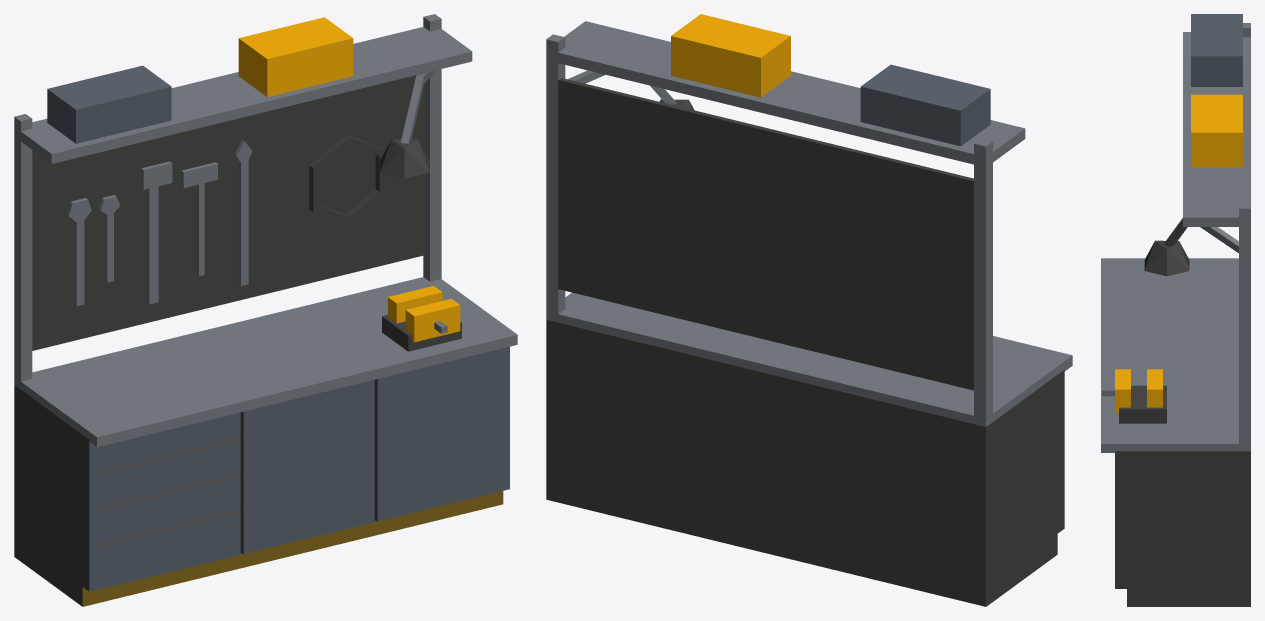
The model's file is tool_board.glb.
3 views of the same model, side by side, from view 1: azimuth 30°, elevation 25°; view 2: azimuth 150°, elevation 25°; view 3: azimuth 270°, elevation 25° (orthographic). The views are drawn at different scales.
Parts seen in each view (by area): view 1: tool_board; view 2: tool_board; view 3: tool_board.
Boxes of the visible parts, bbox=[...] form: tool_board: bbox=[14, 14, 517, 606]; tool_board: bbox=[546, 14, 1072, 606]; tool_board: bbox=[1101, 14, 1250, 606].
Bounding box in the file's own units: 2.2 × 2.34 × 0.75.
